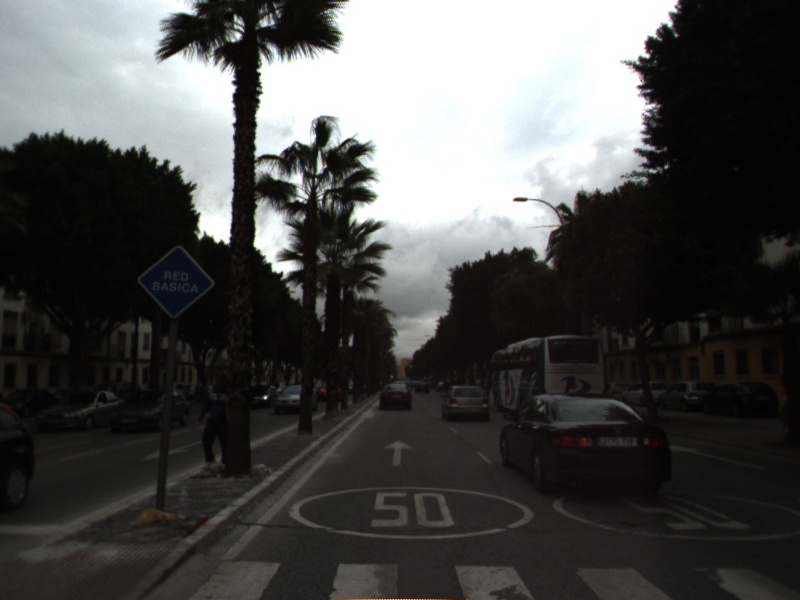STRAIGHT: (668, 442, 768, 472), (381, 438, 415, 468)
